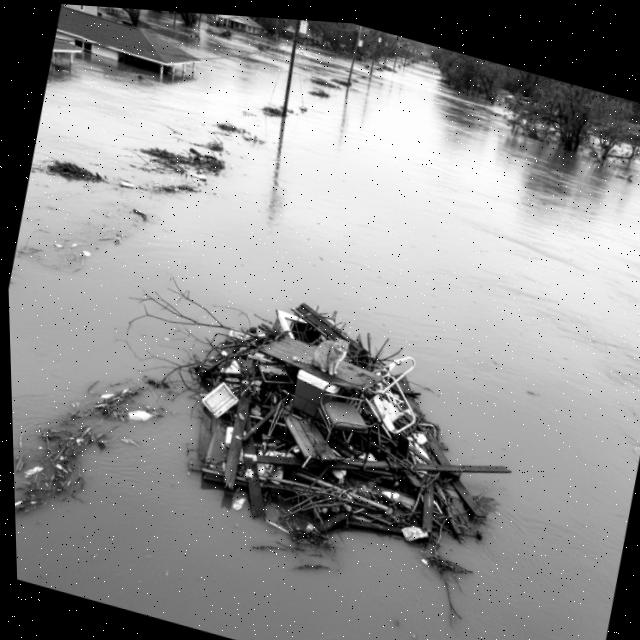cat: (284, 313, 361, 386)
